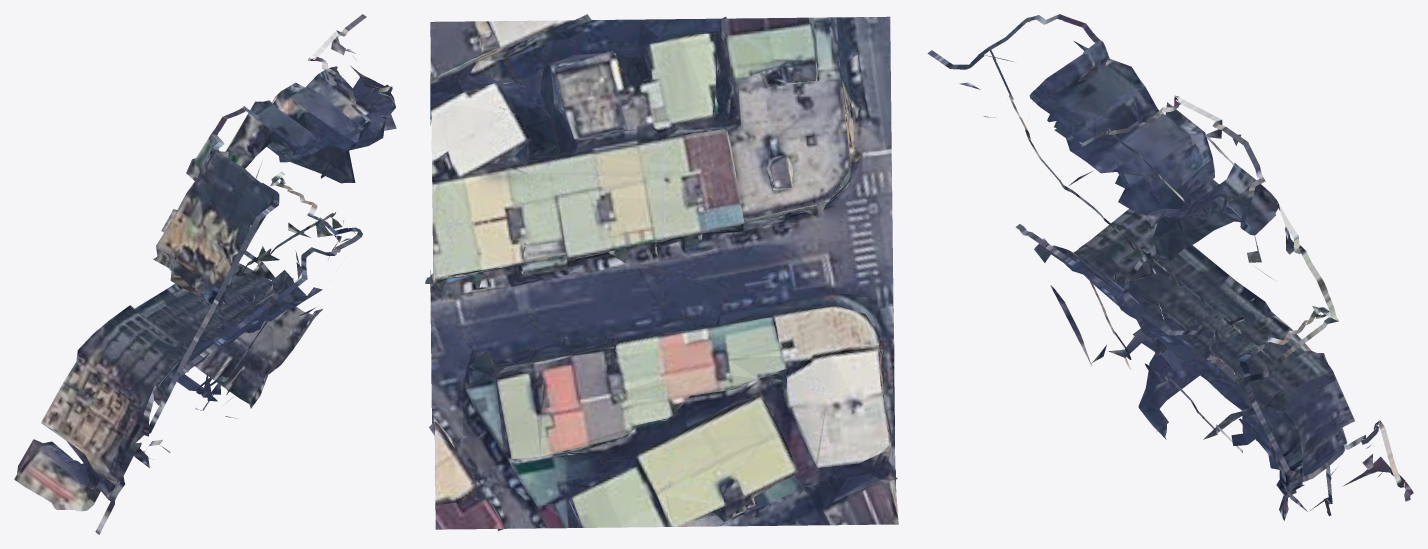
3 renders of one model, left to right at view 1: azimuth 30°, elevation 25°; view 2: azimuth 150°, elevation 25°; view 3: azimuth 270°, elevation 25°, orthographic. The views are drawn at different scales.
Size of the model in its own units: 78.18 by 77.32 by 77.
1 material, 1 textured.
